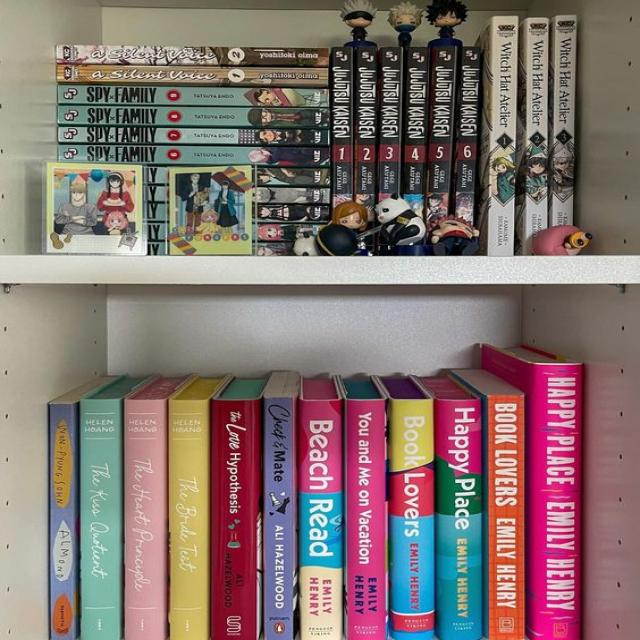book: (531, 362, 582, 640), (212, 399, 260, 640), (434, 400, 482, 640), (123, 399, 168, 640), (347, 399, 390, 640), (392, 399, 434, 640), (300, 400, 342, 640), (488, 393, 528, 640), (169, 398, 209, 640), (80, 399, 120, 640), (264, 396, 294, 640), (48, 403, 78, 640), (57, 45, 329, 67), (57, 64, 327, 86), (494, 18, 517, 255), (58, 106, 327, 126), (59, 85, 327, 105), (525, 18, 550, 228), (59, 146, 330, 163), (58, 126, 329, 143), (555, 15, 575, 226), (456, 48, 479, 220), (430, 47, 450, 217), (332, 48, 352, 202), (356, 47, 376, 201), (382, 48, 402, 199), (407, 47, 427, 196)
